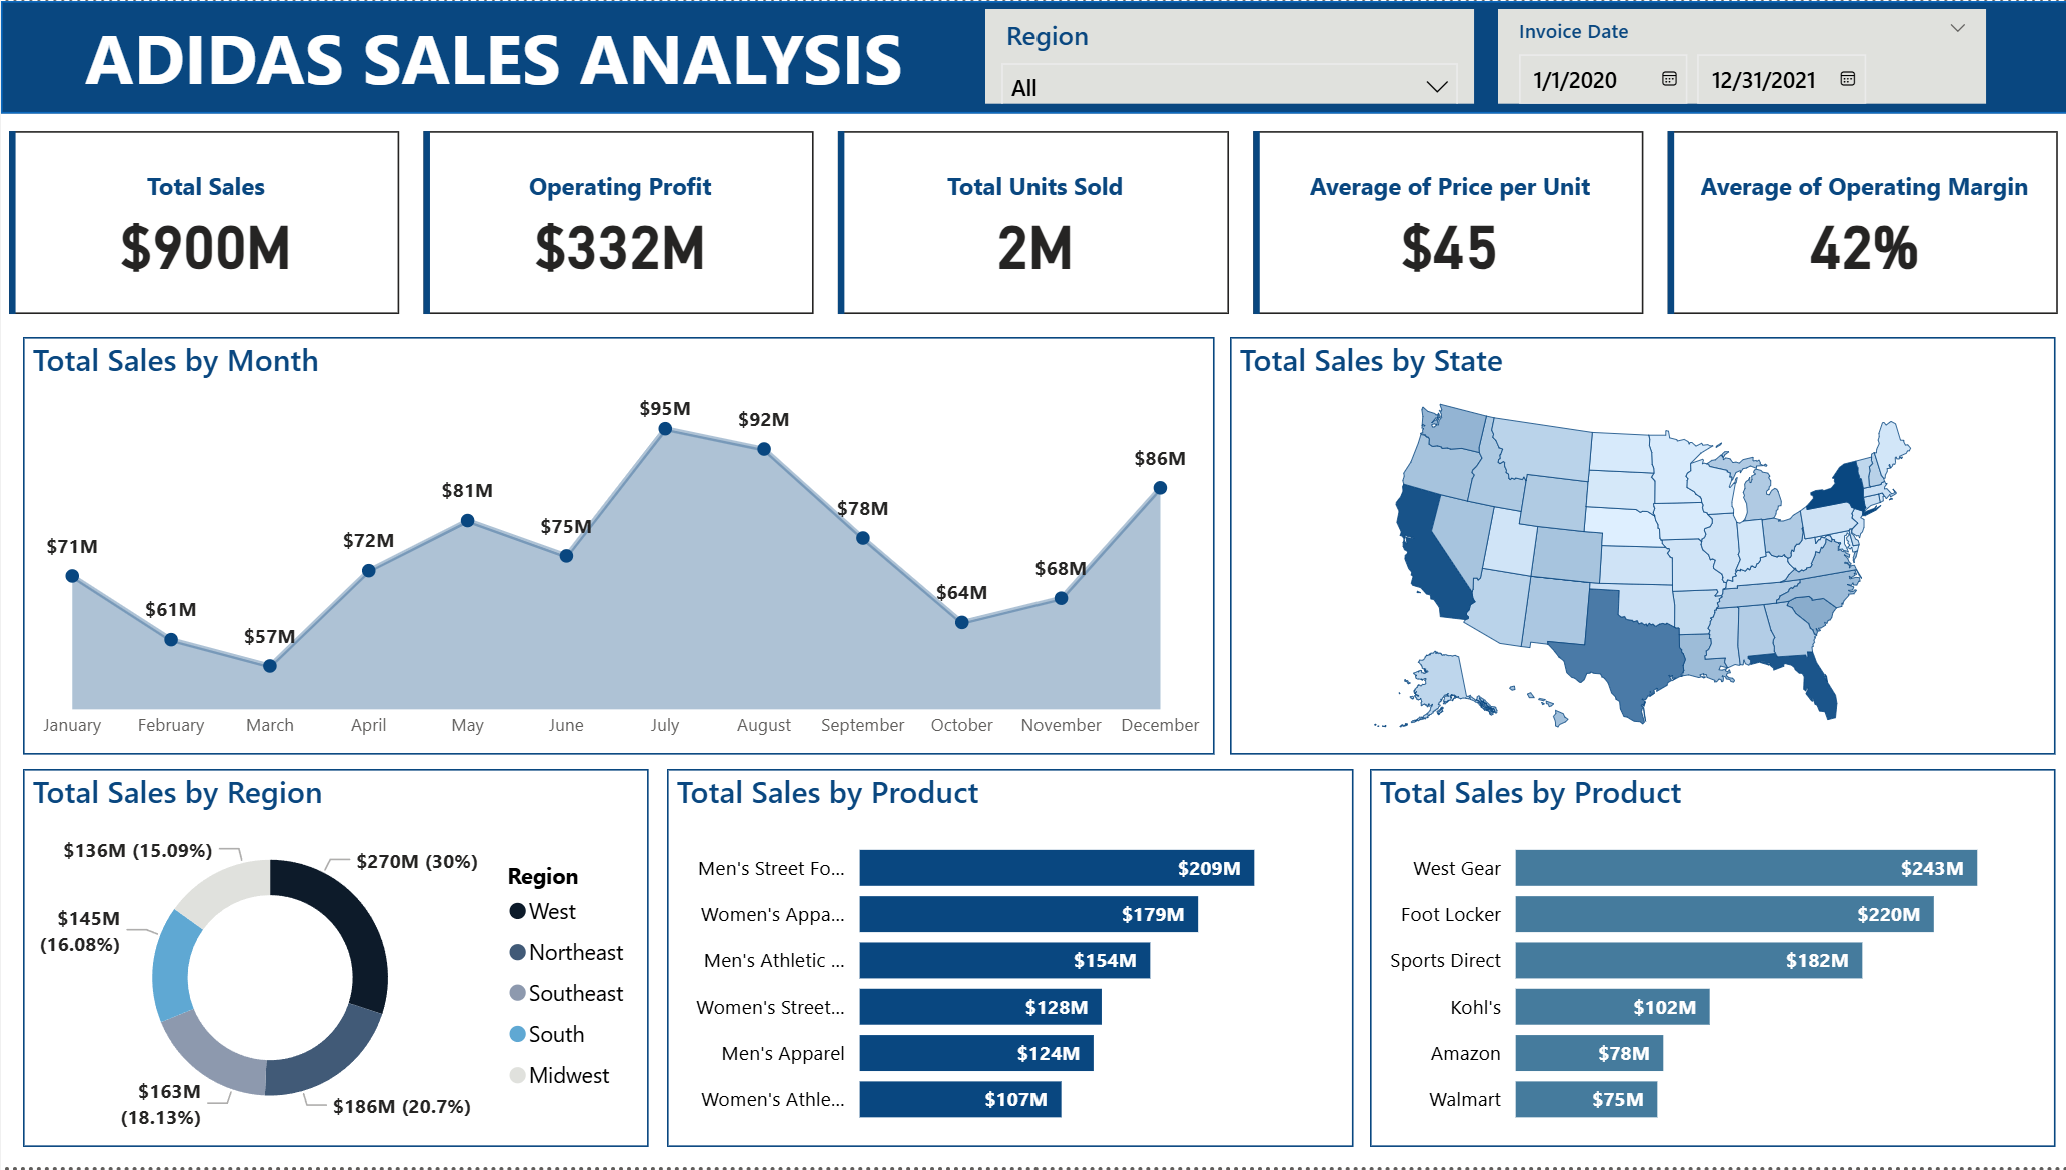

The dashboard page shown, as its layout file describes it:
{"tool":"powerbi","page":{"name":"Page 1","canvas":[1280,720],"ordinal":0},"visuals":[{"type":"shape","box":[0,0,1279.3,69.5],"z":0},{"type":"textbox","box":[46.6,0,593.9,73.6],"z":1000},{"type":"cardVisual","fields":{"Data":["Sum(Data Sales Adidas.Total Sales)","Sum(Data Sales Adidas.Operating Profit)","Sum(Data Sales Adidas.Units Sold)","Avg(Data Sales Adidas.Price per Unit)","Avg(Data Sales Adidas.Operating Margin)"]},"box":[0,75.7,1279.3,123.6],"z":2000},{"type":"areaChart","title":"Total Sales by Month","fields":{"Category":["Data Sales Adidas.Invoice Date.Variation.Date Hierarchy.Month"],"Y":["Sum(Data Sales Adidas.Total Sales)"]},"box":[13.9,207,735.5,258],"z":3000},{"type":"shapeMap","title":"Total Sales by State","fields":{"Category":["Data Sales Adidas.State"],"Value":["Sum(Data Sales Adidas.Total Sales)"]},"box":[758.6,207,509.9,258],"z":4000},{"type":"donutChart","title":"Total Sales by Region","fields":{"Y":["Sum(Data Sales Adidas.Total Sales)"],"Category":["Data Sales Adidas.Region"]},"box":[13.9,474.3,386.3,233.3],"z":5000},{"type":"barChart","title":"Total Sales by Product","fields":{"Category":["Data Sales Adidas.Product"],"Y":["Sum(Data Sales Adidas.Total Sales)"]},"box":[411,474.3,423.4,233.3],"z":6000},{"type":"barChart","title":"Total Sales by Product","fields":{"Category":["Data Sales Adidas.Retailer"],"Y":["Sum(Data Sales Adidas.Total Sales)"]},"box":[845.2,474.3,423.4,233.3],"z":7000},{"type":"slicer","fields":{"Values":["Data Sales Adidas.Region"]},"box":[607.6,4.9,301.4,58.6],"z":8000},{"type":"slicer","fields":{"Values":["Data Sales Adidas.Invoice Date"]},"box":[923.6,4.9,301.4,58.6],"z":9000}]}

Visuals, with their boxes in screenshot pixels (x1, y1, x2, y2), scaled from the page's 1280x720 canvas onto the 2066x1170 screenshot:
shape: bbox=[0, 0, 2065, 113]
textbox: bbox=[75, 0, 1034, 120]
cardVisual - Sum(Data Sales Adidas.Total Sales) x Sum(Data Sales Adidas.Operating Profit): bbox=[0, 123, 2065, 324]
"Total Sales by Month" areaChart: bbox=[22, 336, 1210, 756]
"Total Sales by State" shapeMap: bbox=[1224, 336, 2047, 756]
"Total Sales by Region" donutChart: bbox=[22, 771, 646, 1150]
"Total Sales by Product" barChart: bbox=[663, 771, 1347, 1150]
"Total Sales by Product" barChart: bbox=[1364, 771, 2048, 1150]
slicer - Data Sales Adidas.Region: bbox=[981, 8, 1467, 103]
slicer - Data Sales Adidas.Invoice Date: bbox=[1491, 8, 1977, 103]
